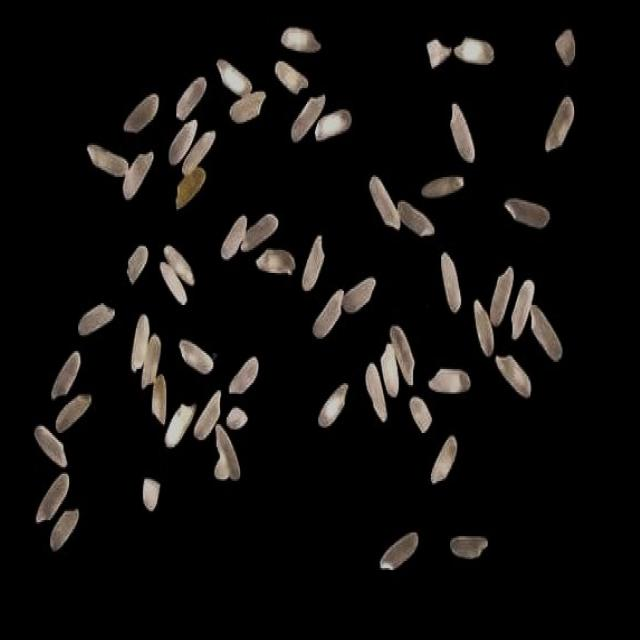Broken: (174, 168, 204, 210), (408, 395, 431, 432), (126, 245, 148, 282), (425, 38, 451, 68), (554, 28, 574, 66), (151, 374, 165, 424), (142, 478, 159, 510), (226, 406, 246, 428), (213, 454, 228, 479)
Full: (529, 303, 561, 360), (289, 93, 325, 143), (34, 471, 68, 522), (368, 174, 398, 230), (543, 96, 573, 152), (494, 354, 530, 398), (389, 324, 414, 386), (121, 148, 152, 198), (509, 278, 534, 340), (311, 288, 342, 338), (378, 532, 418, 570), (54, 392, 91, 433), (121, 91, 158, 132), (50, 350, 80, 400), (449, 102, 473, 164), (488, 264, 512, 326), (182, 130, 214, 176), (163, 403, 196, 447), (240, 214, 278, 252), (32, 424, 66, 466), (86, 143, 128, 177), (504, 197, 548, 229), (174, 75, 206, 119), (167, 118, 197, 164), (214, 424, 239, 479), (396, 200, 434, 236), (215, 58, 251, 96), (193, 390, 220, 440), (300, 233, 324, 289), (76, 302, 115, 336), (318, 381, 348, 425), (364, 362, 386, 422), (164, 243, 194, 286), (429, 436, 456, 483), (48, 508, 78, 550), (472, 298, 493, 358), (158, 260, 186, 304), (178, 338, 212, 374), (228, 91, 266, 123), (453, 36, 493, 66), (440, 252, 460, 312), (220, 214, 246, 260), (342, 276, 375, 312), (313, 108, 350, 140), (129, 313, 149, 372), (228, 355, 258, 394), (274, 60, 308, 94), (140, 332, 160, 388), (427, 367, 470, 393), (379, 342, 398, 397), (280, 26, 320, 52), (254, 248, 294, 274), (421, 175, 464, 198), (449, 535, 487, 557)
